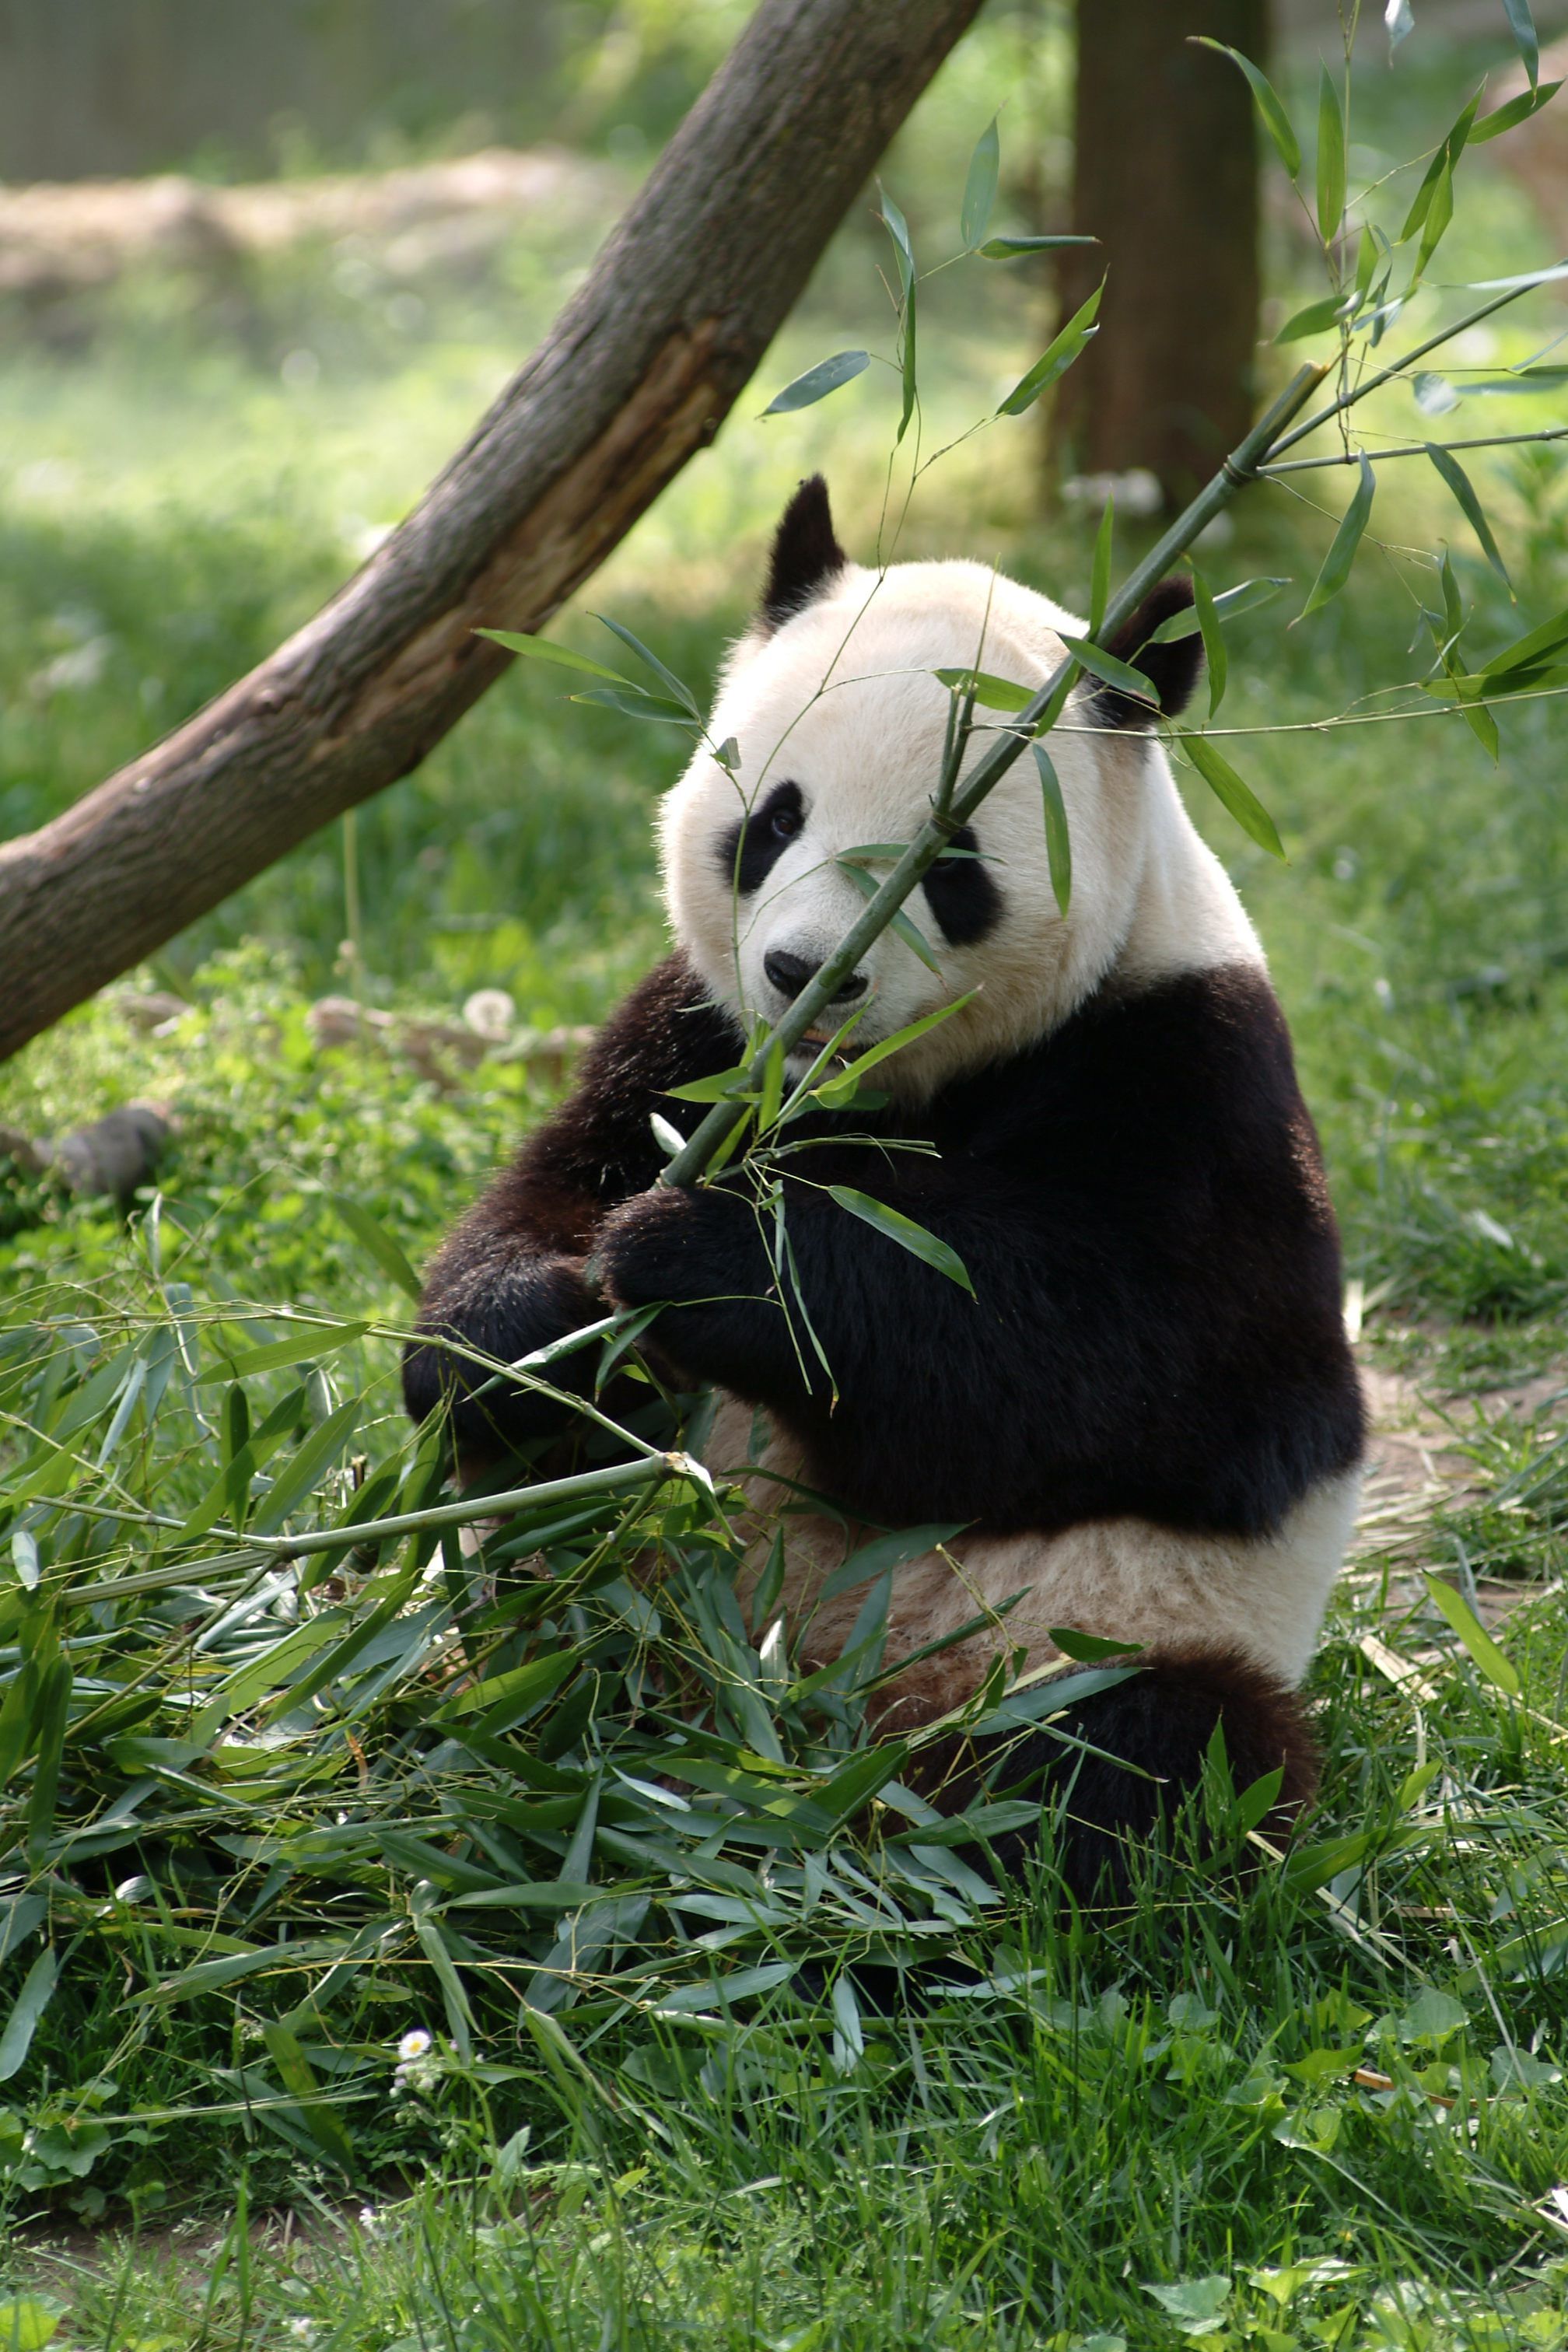panda: (464, 483, 1424, 1955)
